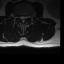CCS_normal: (22, 13, 24, 25)
LFS_normal: (27, 12, 29, 20)
LLS_normal: (24, 13, 27, 22)
RFS_stenosis: (17, 13, 19, 20)
RLS_normal: (19, 13, 22, 22)
